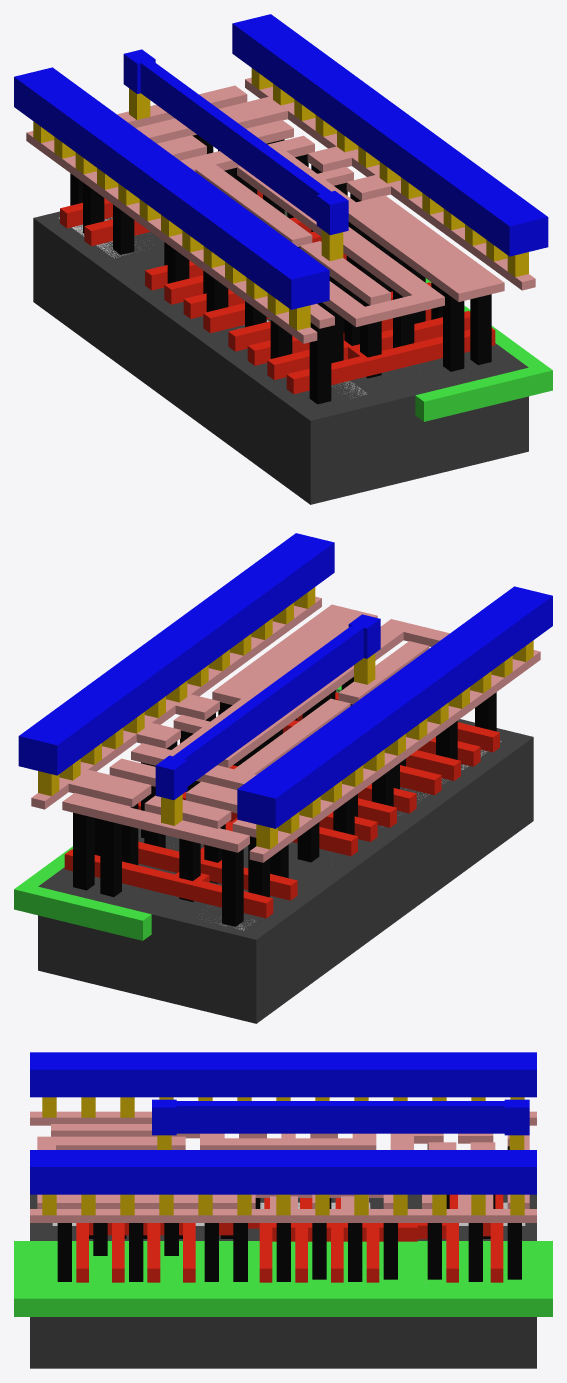
Rendered from sky130_fd_sc_hd__ebufn_4.obj.
3 views of the same model, one above another, from view 1: azimuth 30°, elevation 25°; view 2: azimuth 150°, elevation 25°; view 3: azimuth 270°, elevation 25° (orthographic). The views are drawn at different scales.
Parts seen in each view (by area): view 1: subs, metal1, li, licon, poly, mcon, nwell; view 2: metal1, subs, li, licon, poly, mcon, nwell; view 3: metal1, nwell, subs, li, licon, poly, mcon.
Part boxes in pixels (x1=…): subs: x1=33, y1=210, x2=528, y2=504; metal1: x1=14, y1=14, x2=548, y2=309; li: x1=26, y1=77, x2=535, y2=343; licon: x1=70, y1=134, x2=491, y2=404; poly: x1=60, y1=190, x2=495, y2=394; mcon: x1=33, y1=68, x2=528, y2=330; nwell: x1=285, y1=212, x2=552, y2=421; metal1: x1=18, y1=533, x2=552, y2=828; subs: x1=38, y1=689, x2=533, y2=1023; li: x1=31, y1=596, x2=540, y2=862; licon: x1=73, y1=677, x2=496, y2=926; poly: x1=64, y1=692, x2=499, y2=918; mcon: x1=38, y1=587, x2=533, y2=849; nwell: x1=14, y1=686, x2=341, y2=940; metal1: x1=30, y1=1052, x2=536, y2=1194; nwell: x1=14, y1=1241, x2=552, y2=1316; subs: x1=30, y1=1194, x2=536, y2=1368; li: x1=30, y1=1111, x2=536, y2=1222; licon: x1=57, y1=1144, x2=521, y2=1281; poly: x1=76, y1=1194, x2=503, y2=1282; mcon: x1=42, y1=1097, x2=524, y2=1215.
Bounding box in the file's own units: 3.2 × 2.74 × 6.36.
